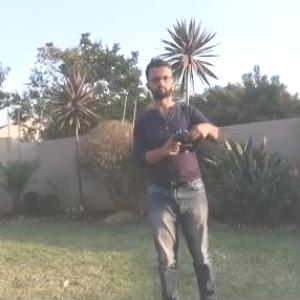follow: (129, 46, 232, 299)
